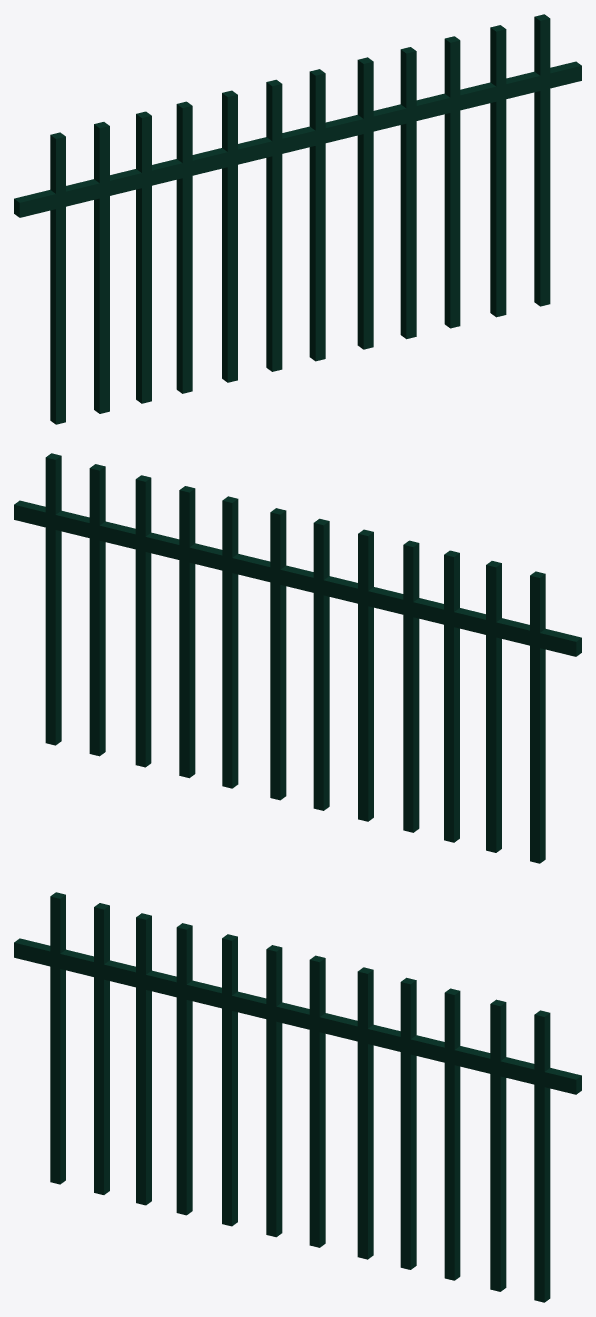
Rendered from Envy_fence.fbx.
The picture shows the model from 3 angles, top to bottom: view 1: azimuth 30°, elevation 25°; view 2: azimuth 150°, elevation 25°; view 3: azimuth 330°, elevation 25°; orthographic projection.
Parts seen in each view (by area): view 1: Combined_Fence; view 2: Combined_Fence; view 3: Combined_Fence.
Boxes of the visible parts, <box> form: Combined_Fence: <box>14,14,581,424</box>; Combined_Fence: <box>14,453,581,863</box>; Combined_Fence: <box>14,892,581,1302</box>.
Bounding box in the file's own units: 16.02 × 7.78 × 0.2876.
